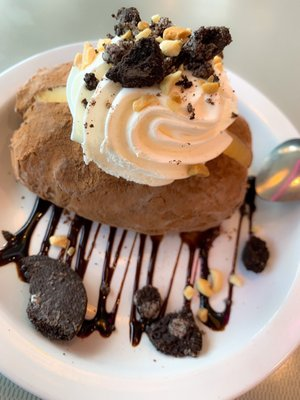sushi: (2, 11, 286, 376), (7, 5, 254, 236)
